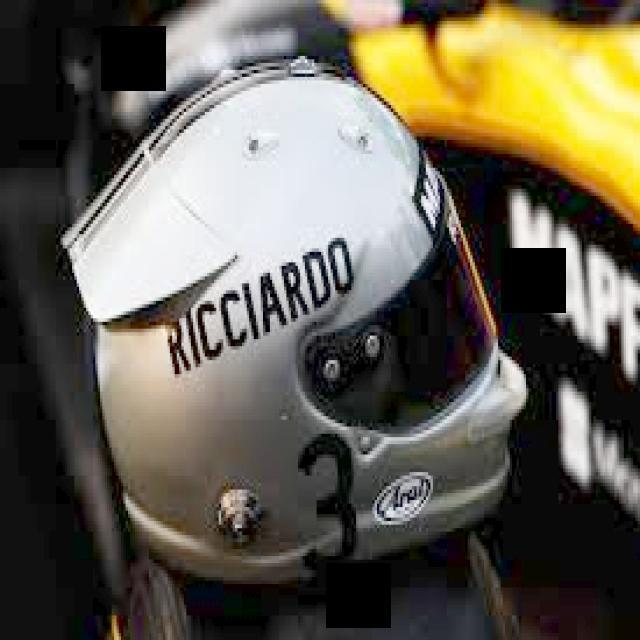helmet: (58, 55, 529, 584)
